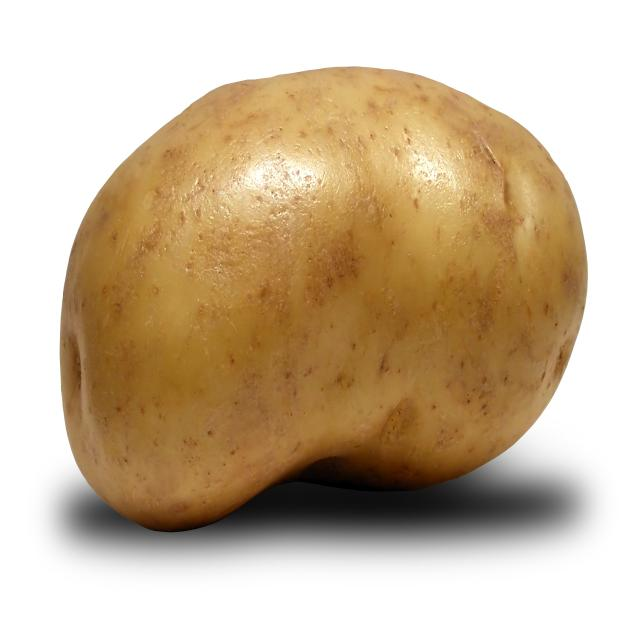potato: (48, 71, 600, 530)
